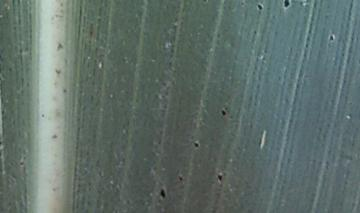tarspot: (155, 185, 168, 202), (190, 136, 202, 152), (174, 171, 186, 186), (213, 171, 225, 183), (326, 30, 335, 46), (253, 2, 266, 13), (281, 1, 293, 12), (217, 105, 227, 118), (250, 26, 259, 37)
